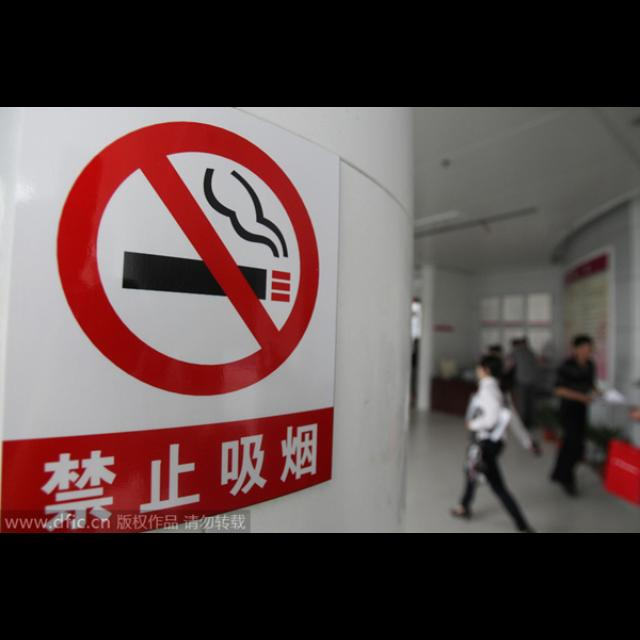cam hut thuoc: (0, 107, 337, 443)
